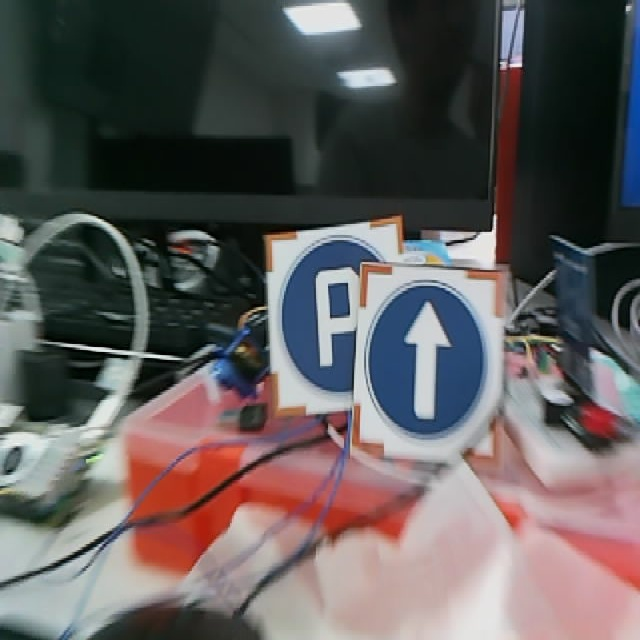parking: (266, 216, 411, 417)
straight: (354, 265, 508, 465)
